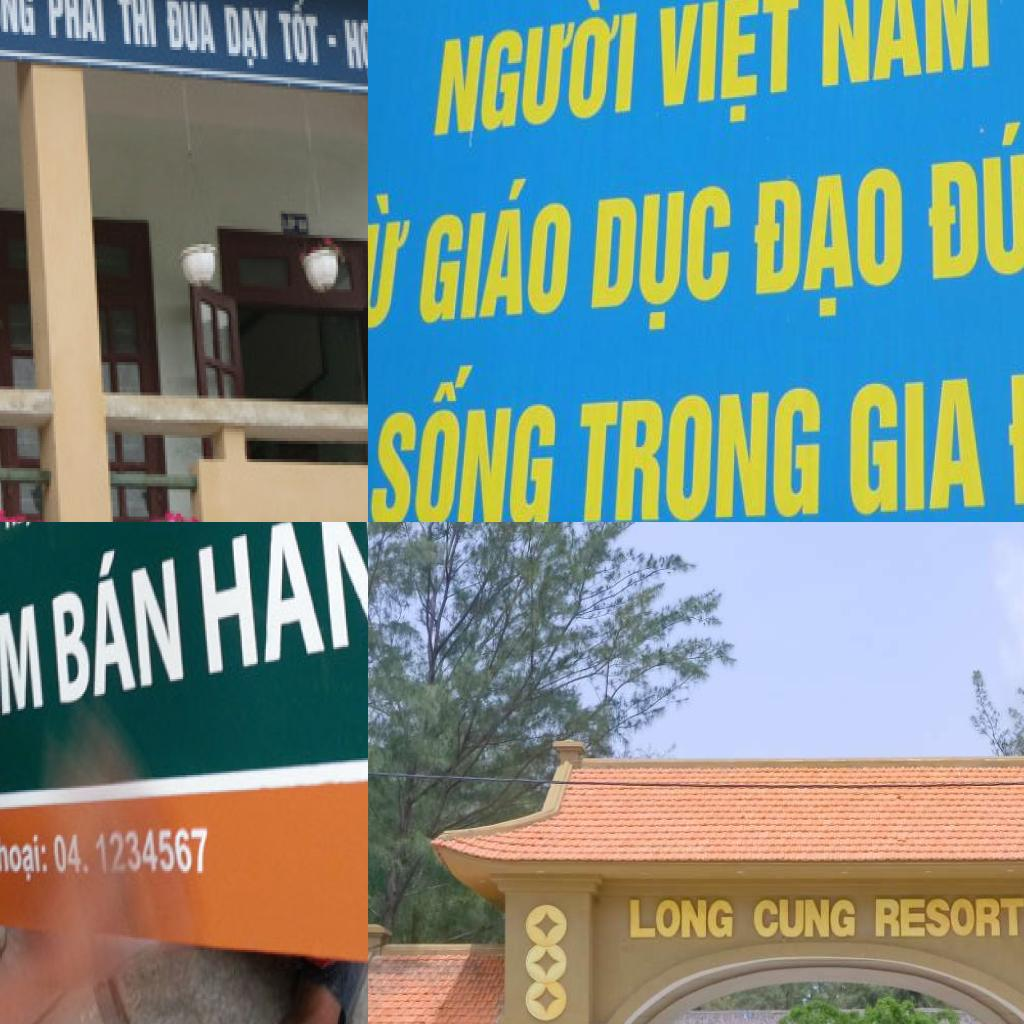text: (577, 389, 822, 522), (369, 356, 561, 522), (428, 0, 645, 138), (192, 522, 368, 679), (417, 167, 579, 329), (46, 528, 188, 711), (743, 164, 904, 320), (584, 182, 736, 331), (844, 374, 989, 517), (652, 0, 800, 136), (921, 107, 1024, 291), (816, 0, 995, 93), (0, 562, 46, 739), (368, 189, 414, 337), (626, 894, 737, 944), (750, 894, 858, 942), (222, 2, 274, 71), (274, 0, 324, 71), (163, 0, 222, 59), (44, 0, 110, 47), (0, 830, 49, 886), (115, 0, 163, 53), (340, 10, 368, 83), (0, 0, 40, 43), (2, 522, 35, 534)
